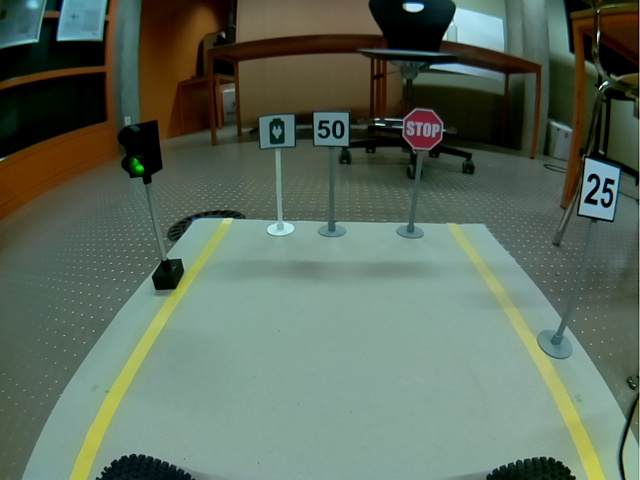battery: (258, 114, 297, 150)
speed25: (576, 155, 621, 223)
speed50: (312, 111, 350, 147)
stop: (402, 108, 443, 150)
trafficLightGreen: (117, 120, 163, 178)
